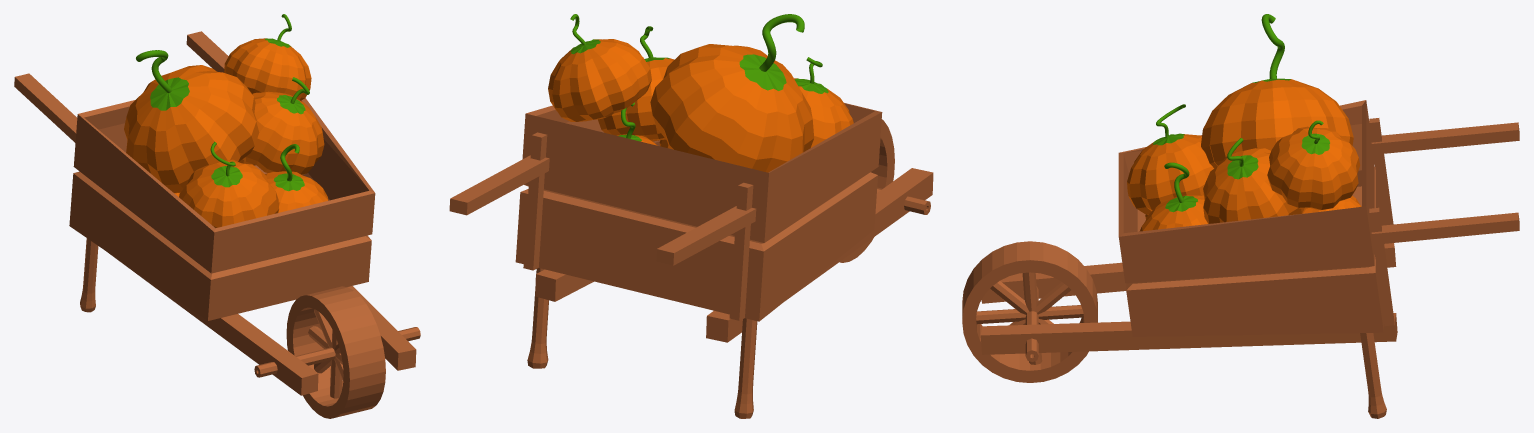
Rendered from Brouette_rempli.fbx.
The picture shows the model from 3 angles, left to right: view 1: azimuth 30°, elevation 25°; view 2: azimuth 150°, elevation 25°; view 3: azimuth 270°, elevation 25°; orthographic projection. The views are drawn at different scales.
Visible parts, largest first — view 1: Brouette, Citrouille.008, Branche_base.002, Branche_base, Branche_base.006, Citrouille.007; view 2: Brouette, Citrouille.008, Branche_base.006, Branche_base.002, Branche_base; view 3: Brouette, Citrouille.008, Branche_base.006, Branche_base.002, Branche_base, Citrouille.007.
Boxes of the visible parts, <box> form: Brouette: <box>14,31,420,418</box>; Citrouille.008: <box>124,50,259,193</box>; Branche_base.002: <box>243,77,324,174</box>; Branche_base: <box>179,141,278,227</box>; Branche_base.006: <box>224,14,311,100</box>; Citrouille.007: <box>265,144,328,212</box>; Brouette: <box>449,103,933,418</box>; Citrouille.008: <box>650,14,814,172</box>; Branche_base.006: <box>548,14,651,121</box>; Branche_base.002: <box>598,26,674,141</box>; Branche_base: <box>794,57,853,147</box>; Brouette: <box>962,100,1519,418</box>; Citrouille.008: <box>1201,14,1353,168</box>; Branche_base.006: <box>1267,120,1360,210</box>; Branche_base.002: <box>1203,138,1304,223</box>; Branche_base: <box>1127,104,1213,214</box>; Citrouille.007: <box>1139,162,1207,231</box>.
Bounding box in the file's own units: 200 × 279 × 444.
